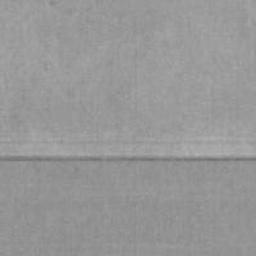Welding line: (0, 152, 256, 164)
